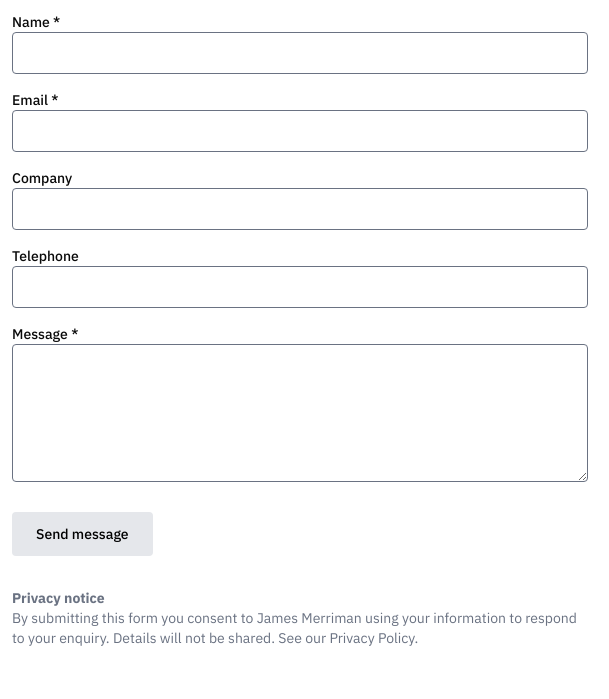
Test: ContactForm › shows a generic error when the submission request fails
The width and height of the screenshot is (609, 699).
In the field labelled "Name *": (300, 53) top-left (12, 32), bottom-right (588, 74), type "James Merriman"
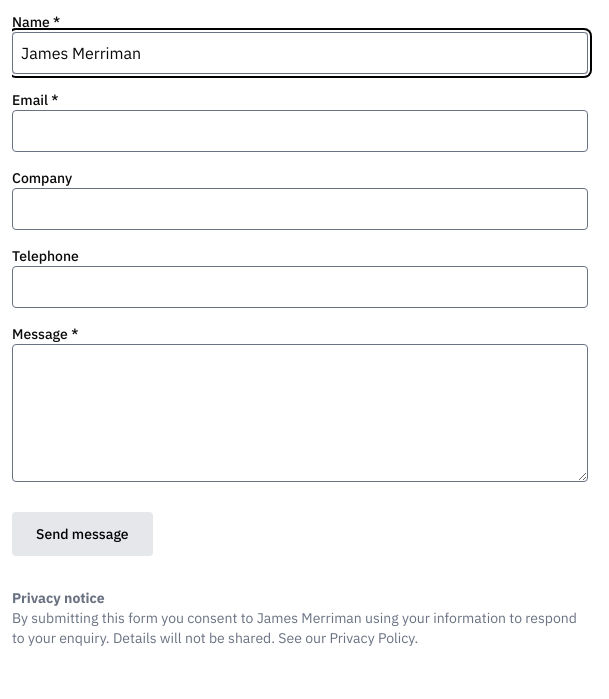
In the field labelled "Email *": (300, 131) top-left (12, 110), bottom-right (588, 152), type "james@example.com"
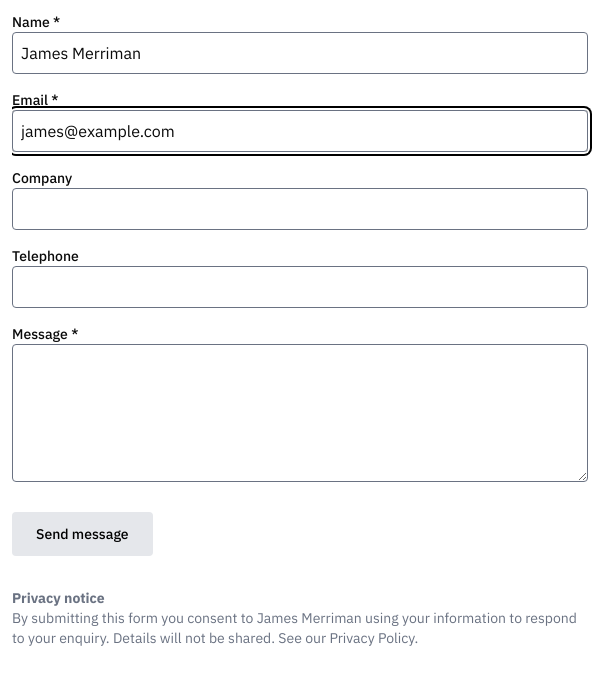
In the text box labelled "Message *": (300, 413) top-left (12, 344), bottom-right (588, 482), type "Hello, this is a test message."
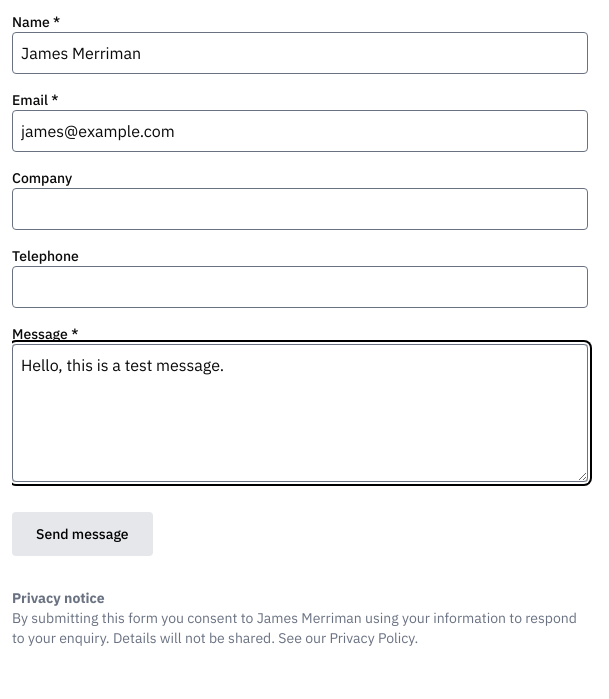
Click the button "Send message": (82, 534) top-left (12, 512), bottom-right (153, 556)
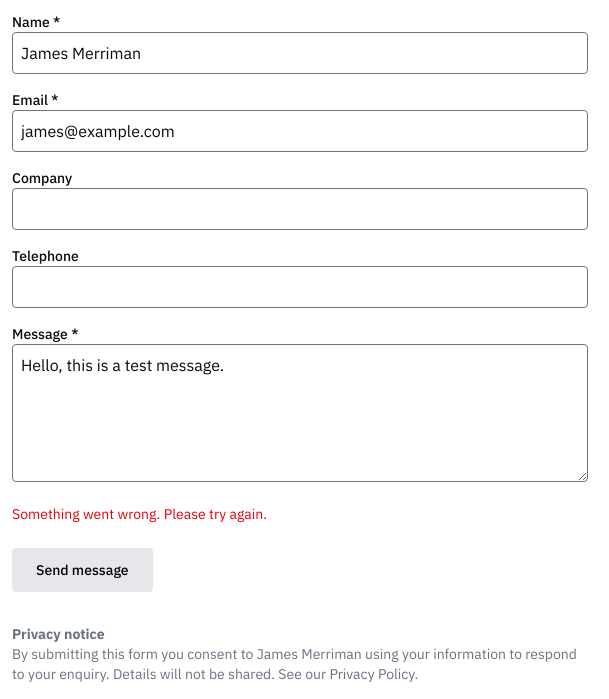
Check: the text "Something went wrong. Please try again." is shown, box top-left (12, 505), bottom-right (267, 523)
